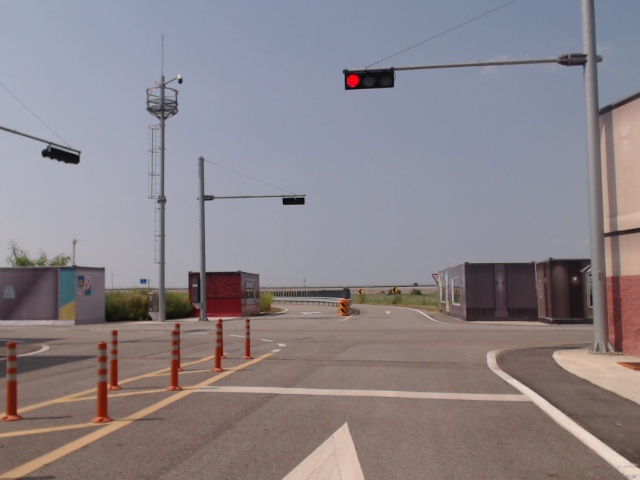red_3: (345, 70, 394, 89)
